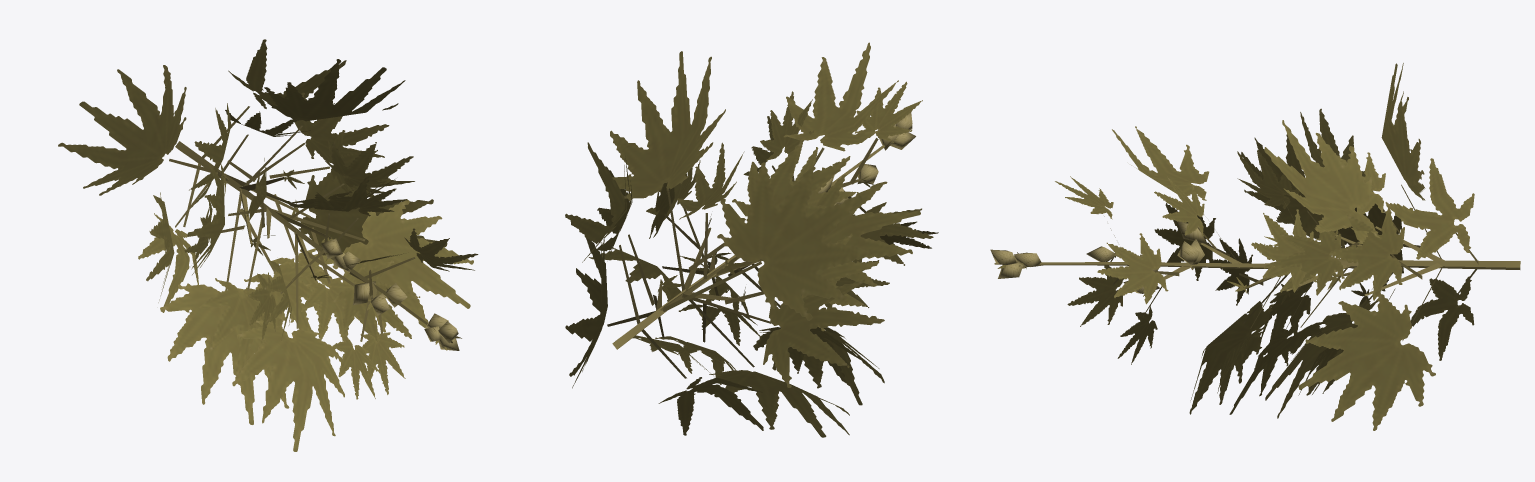
File: p_male_haze_preflower_c2_cards.obj
The picture shows the model from 3 angles, left to right: view 1: azimuth 30°, elevation 25°; view 2: azimuth 150°, elevation 25°; view 3: azimuth 270°, elevation 25°; orthographic projection. The views are drawn at different scales.
Size of the model in its own units: 1.35 by 1.28 by 1.58.
1 material, 1 textured.
